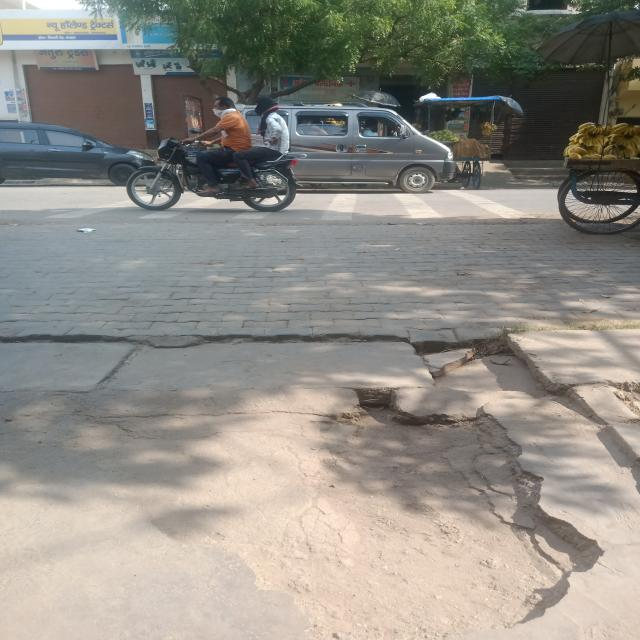Car: (0, 122, 147, 184)
Two Wheeler: (127, 139, 205, 210), (215, 154, 300, 211)
